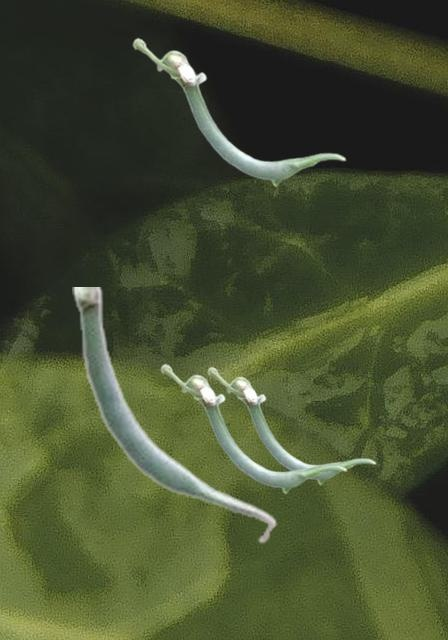french_bean: (72, 287, 276, 544), (132, 37, 345, 186), (160, 363, 346, 493), (207, 366, 375, 484)
